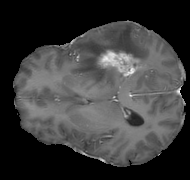Edema: (70, 23, 159, 91)
EnhancingTumors: (91, 44, 146, 74)
Necrosis: (112, 55, 135, 67)
